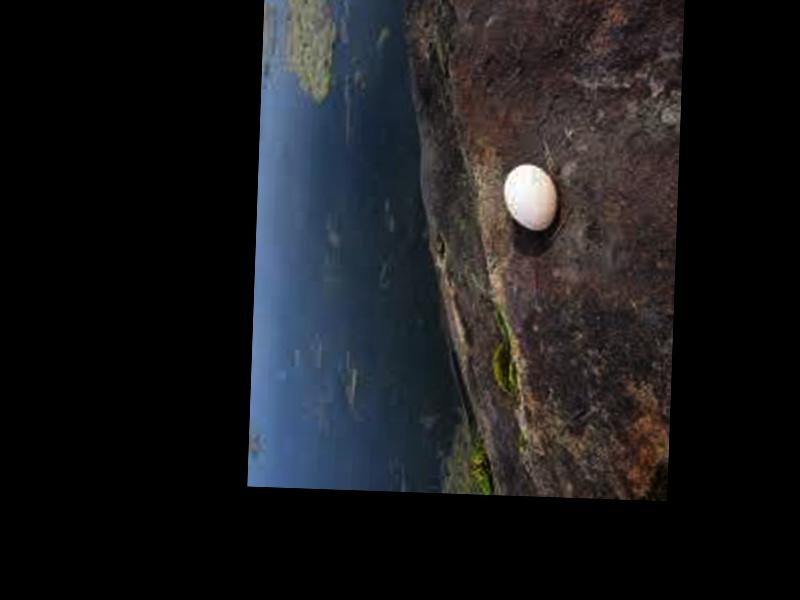Eggs: (501, 159, 558, 230)
